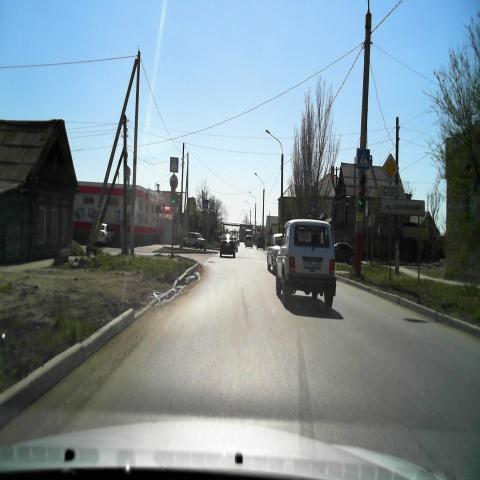2_1: (382, 154, 399, 182)
5_19_1: (356, 147, 370, 169), (170, 156, 179, 174)
6_16: (381, 185, 400, 197)
